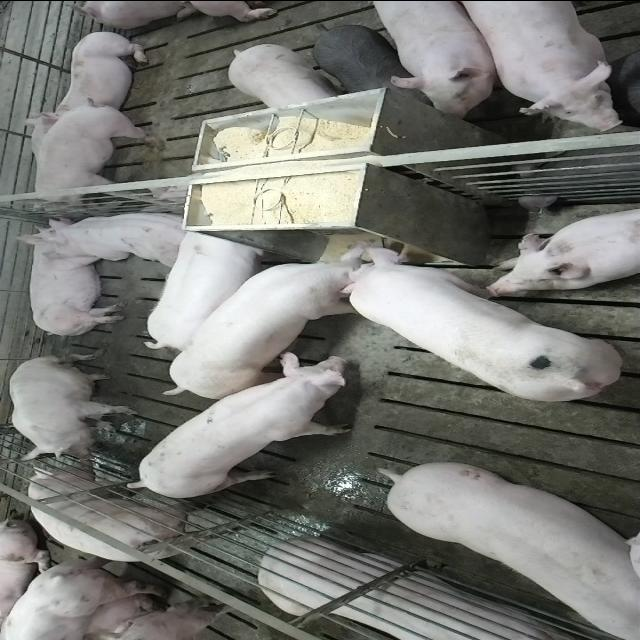Feeding: (338, 240, 624, 404), (162, 240, 384, 400)
Lateral_lying: (12, 220, 128, 338)
Sitting: (7, 355, 137, 461)
Standing: (374, 456, 636, 636), (121, 358, 361, 501), (442, 2, 630, 132), (26, 460, 232, 560), (143, 225, 271, 352), (28, 103, 168, 211), (368, 3, 498, 117), (0, 563, 156, 640), (309, 23, 421, 94), (227, 42, 343, 110), (608, 26, 640, 131)
Sternal_lying: (262, 539, 600, 640), (482, 203, 640, 293), (28, 206, 195, 264), (44, 28, 154, 116), (20, 109, 66, 161)
